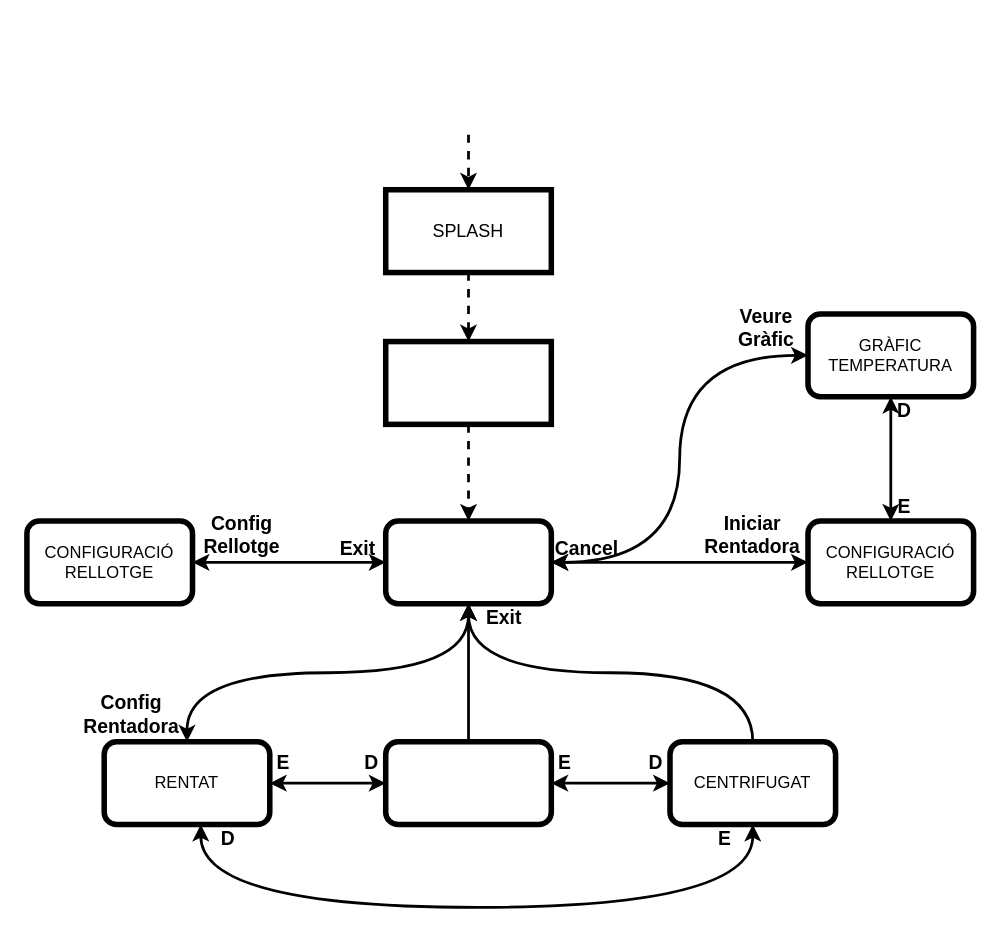
Some shapes in this 999 by 932 pixel diagram are drawn without their labels. The centre of each missing label's shape, as x and y in pixels:
"ESBANDIT" belongs at (467,782).
"MENU PRINCIPAL" belongs at (467,562).
"PROJECTE I NOMS" belongs at (467,382).
